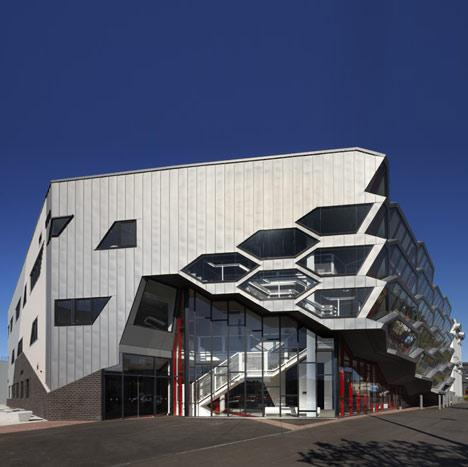affected: (0, 139, 468, 456)
